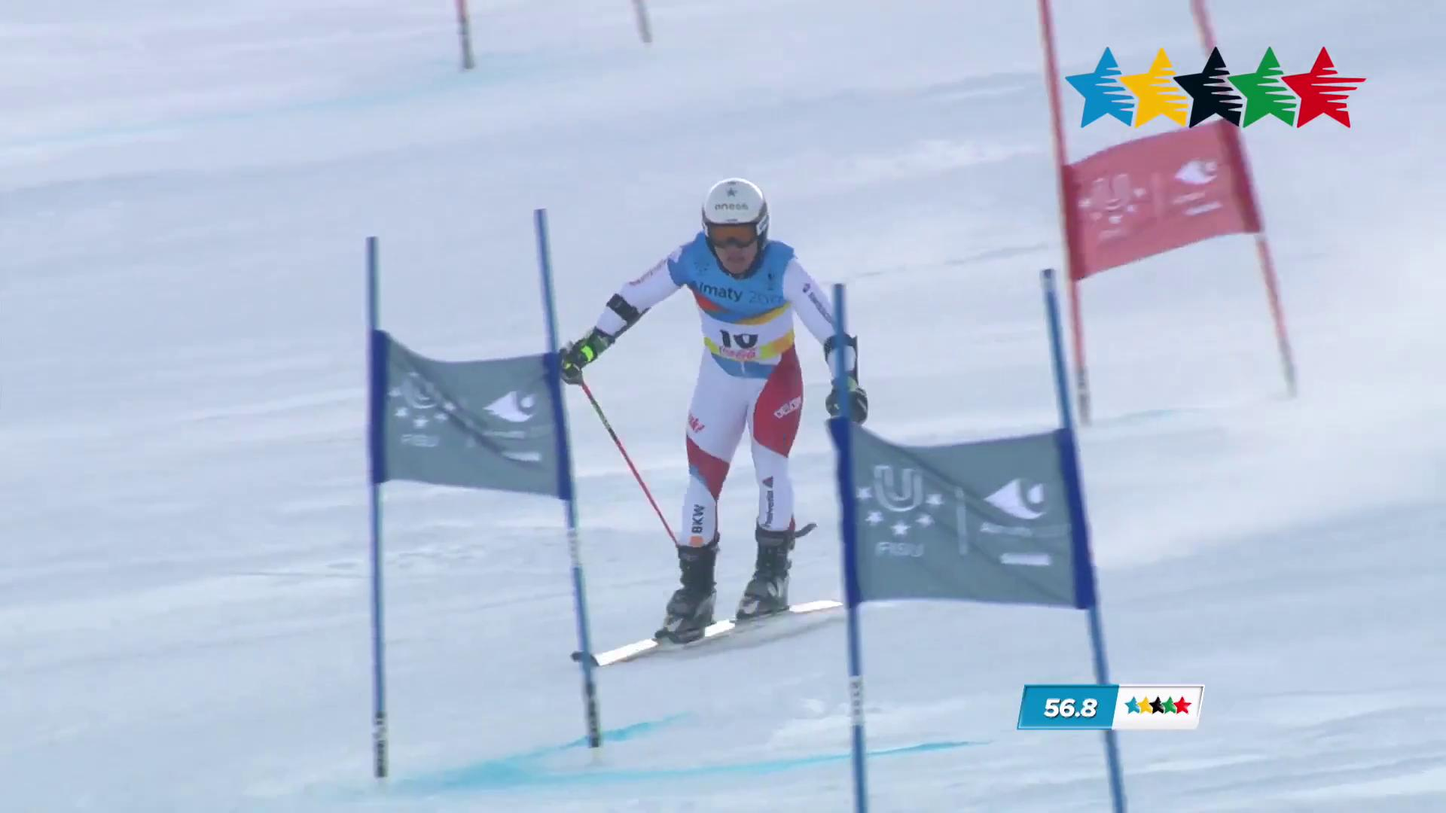gate: (534, 209, 592, 656), (1234, 136, 1298, 397), (365, 236, 389, 780), (834, 404, 866, 812), (1036, 0, 1074, 274), (1042, 269, 1074, 432), (1071, 279, 1090, 422), (1088, 596, 1113, 684), (1102, 730, 1126, 812), (580, 661, 602, 748), (1066, 443, 1087, 526), (1190, 0, 1215, 47), (832, 285, 846, 341), (1088, 564, 1097, 593)
